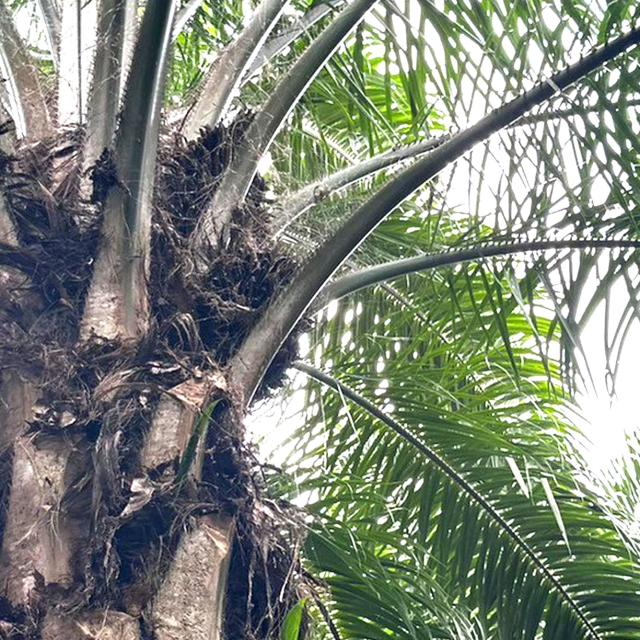almost: (151, 109, 280, 238)
unripe: (199, 242, 314, 404)
